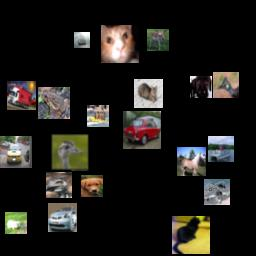airplane: (204, 179, 230, 205)
automobile: (123, 111, 161, 149), (0, 136, 32, 168), (48, 203, 77, 232)
bird: (51, 133, 89, 171), (213, 72, 239, 98), (46, 172, 72, 198)
cat: (101, 25, 139, 63), (172, 216, 210, 254), (134, 79, 163, 108)
deer: (147, 29, 169, 51)
dog: (190, 76, 212, 98), (5, 212, 27, 234), (81, 175, 103, 197)
frog: (38, 87, 70, 119)
ship: (208, 136, 234, 162), (87, 105, 109, 127), (74, 32, 90, 48)
truck: (7, 81, 36, 110)
